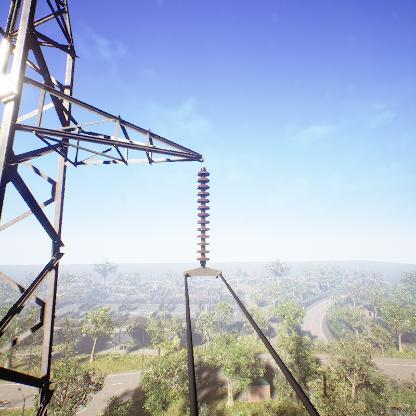insulator: (195, 168, 212, 265)
